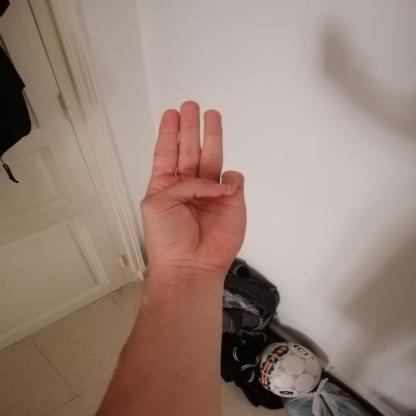THA: (122, 88, 266, 285)
